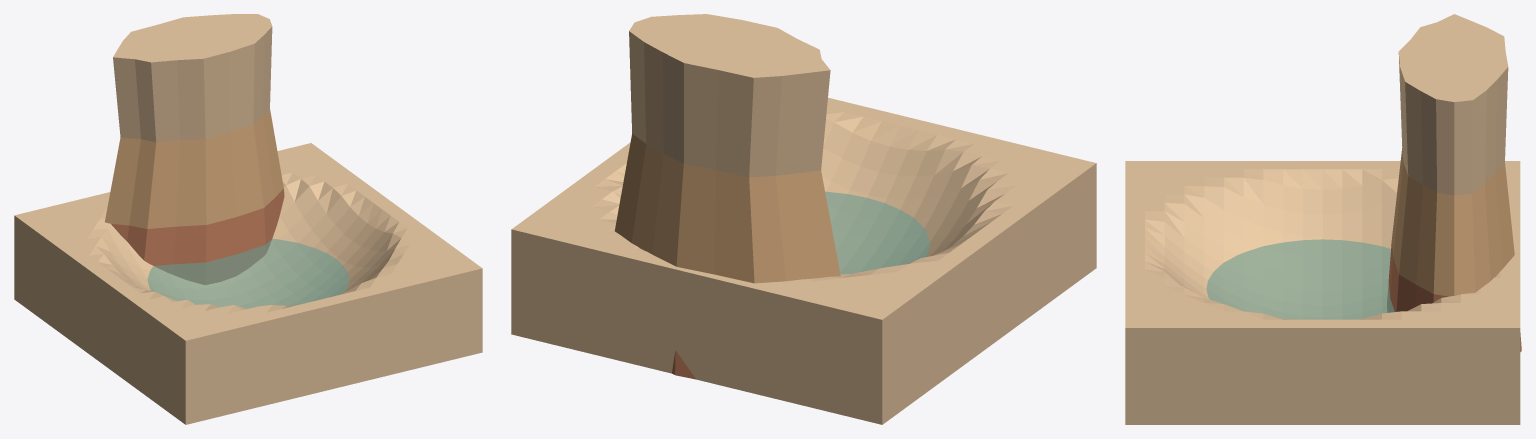
File: desert-canyons-and-oases-spring-seep-5ae2bf03__20969.glb
3 renders of one model, left to right at view 1: azimuth 30°, elevation 25°; view 2: azimuth 150°, elevation 25°; view 3: azimuth 270°, elevation 25°, orthographic. The views are drawn at different scales.
Parts seen in each view (by area): view 1: spring-seep; view 2: spring-seep; view 3: spring-seep.
Part boxes in pixels (left/top/right/bottom): spring-seep: left=14, top=14, right=482, bottom=424; spring-seep: left=511, top=14, right=1096, bottom=424; spring-seep: left=1125, top=14, right=1521, bottom=424.
Size of the model in its own units: 2.4 by 1.9 by 2.41.
